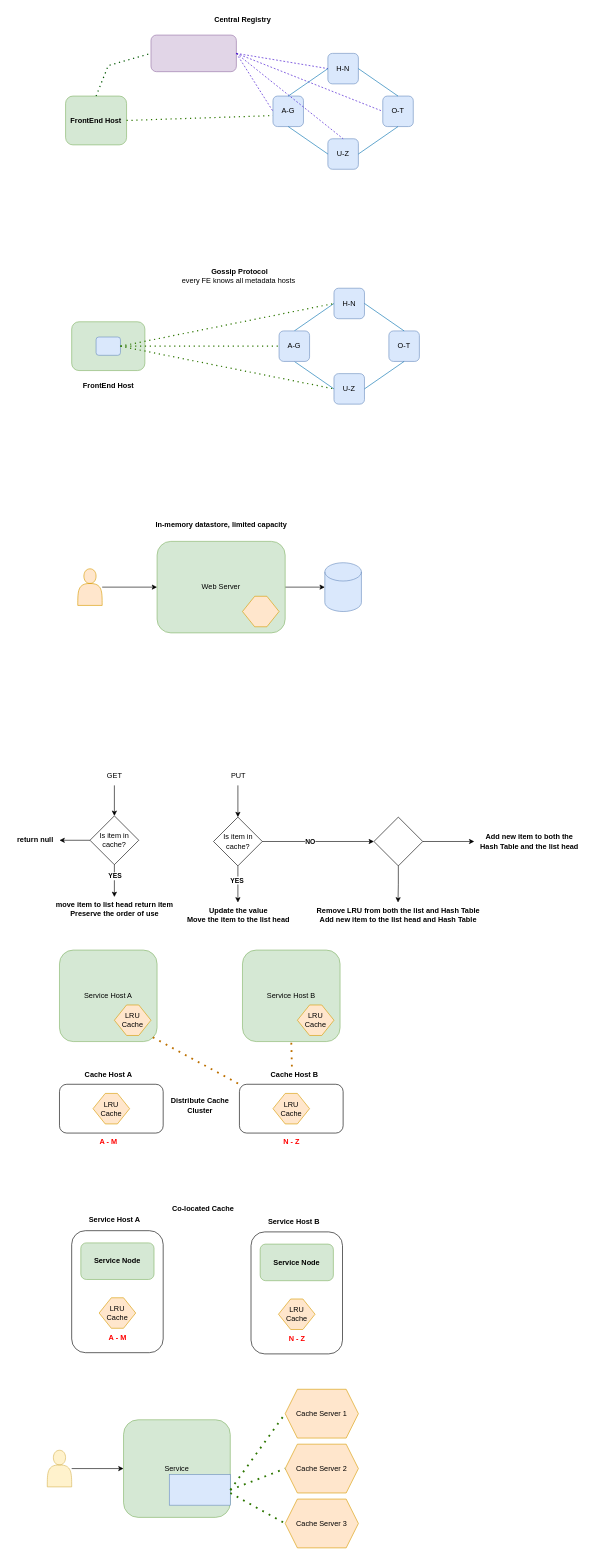
This 594x1559 diagram has some shape labels left out. Here are the shapes that lost their labels. From the top down, the centre of each, then its label:
the point at 193,53: Configuration Serivce (e.g. ZooKeeper)
the point at 342,587: DataStore
the point at 260,611: Cache
the point at 398,841: Is cache full?
the point at 199,1489: Cache client
